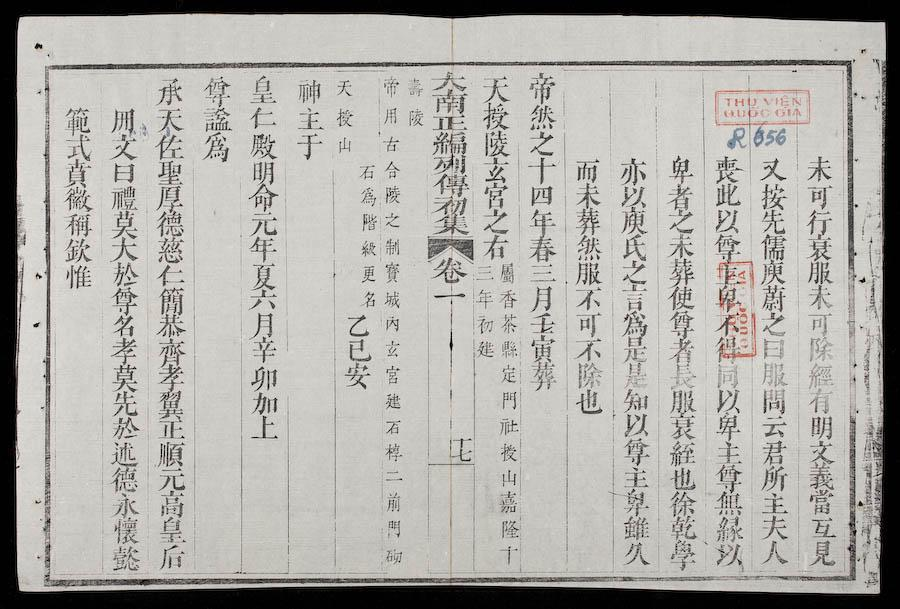c: (430, 256, 469, 285), (199, 74, 233, 105), (247, 73, 278, 106), (200, 132, 233, 163), (153, 75, 186, 106), (430, 131, 470, 156), (526, 71, 557, 103), (60, 104, 93, 134), (616, 155, 650, 184), (108, 544, 143, 572), (751, 123, 790, 148), (430, 90, 469, 115), (667, 539, 698, 570), (711, 154, 744, 183), (108, 210, 141, 239), (153, 389, 186, 418), (109, 516, 143, 544), (154, 338, 188, 366), (711, 463, 745, 491), (60, 159, 94, 187), (60, 134, 95, 161), (199, 106, 234, 133), (431, 173, 470, 197), (803, 153, 835, 182), (620, 437, 652, 466), (480, 74, 512, 103), (154, 440, 187, 468), (153, 237, 187, 264), (153, 210, 187, 237), (712, 285, 746, 312), (429, 70, 470, 92), (712, 312, 748, 337), (758, 539, 790, 567), (665, 258, 697, 286), (247, 132, 279, 160), (108, 363, 140, 391), (711, 234, 743, 262), (152, 134, 186, 160), (152, 107, 186, 133), (712, 516, 746, 542), (665, 153, 695, 182), (108, 105, 139, 133), (807, 539, 838, 567), (480, 130, 511, 158), (249, 364, 280, 392), (248, 262, 279, 290), (664, 183, 695, 211), (528, 363, 559, 391), (620, 488, 651, 516), (805, 335, 836, 363), (155, 517, 187, 544), (155, 287, 187, 314), (247, 184, 279, 211), (666, 440, 698, 467), (479, 103, 511, 130), (526, 236, 558, 263), (108, 287, 140, 314), (107, 134, 139, 161), (620, 541, 652, 568), (61, 237, 94, 263), (61, 264, 94, 290), (666, 414, 699, 440), (712, 490, 745, 516), (153, 185, 186, 211), (758, 514, 791, 540), (108, 391, 141, 417), (108, 493, 142, 518), (60, 212, 94, 237), (60, 187, 94, 212), (712, 542, 746, 567), (572, 207, 602, 235), (248, 415, 279, 442), (804, 208, 835, 235), (757, 155, 788, 182), (758, 234, 789, 261), (757, 183, 788, 210), (293, 133, 324, 160), (619, 285, 650, 312), (619, 336, 650, 363), (666, 311, 697, 338), (805, 489, 837, 515), (805, 463, 837, 489), (667, 389, 699, 415), (758, 465, 790, 491), (108, 185, 140, 211), (620, 515, 652, 541), (108, 440, 140, 466), (155, 491, 187, 517), (109, 466, 141, 492), (573, 362, 605, 388), (247, 212, 280, 237), (432, 215, 471, 236), (107, 238, 141, 262), (528, 335, 557, 363), (619, 234, 649, 261), (527, 103, 557, 130), (574, 389, 604, 416), (293, 78, 323, 105), (759, 388, 789, 415), (156, 544, 187, 570), (619, 311, 650, 337), (526, 208, 557, 234), (573, 261, 604, 287), (804, 285, 835, 311), (526, 157, 557, 183), (667, 490, 698, 516), (618, 208, 649, 234), (805, 362, 836, 388), (804, 235, 835, 261), (109, 337, 140, 363), (666, 338, 697, 364), (712, 336, 743, 362), (480, 234, 511, 260), (665, 233, 697, 258), (572, 337, 604, 362), (247, 237, 279, 262), (154, 314, 187, 338), (108, 262, 141, 286), (154, 468, 187, 492), (759, 285, 788, 312), (713, 413, 742, 440), (431, 196, 470, 216), (759, 361, 789, 387), (574, 235, 604, 261), (294, 106, 324, 132), (342, 363, 372, 389), (759, 439, 789, 465), (249, 337, 279, 363), (620, 388, 650, 414), (480, 209, 511, 234), (666, 286, 697, 311), (480, 158, 511, 183), (805, 389, 836, 414), (109, 416, 141, 440), (246, 106, 278, 130), (429, 288, 469, 307), (154, 264, 187, 287), (528, 285, 556, 312), (249, 311, 277, 338), (481, 183, 510, 209), (758, 260, 788, 285), (572, 183, 602, 208), (573, 312, 603, 337), (621, 412, 651, 437), (619, 260, 649, 285), (620, 363, 650, 388), (806, 414, 836, 439), (805, 440, 836, 464), (155, 365, 186, 389), (618, 184, 649, 208), (154, 160, 185, 184), (667, 516, 698, 540), (620, 465, 651, 489), (713, 388, 742, 413), (712, 208, 741, 233), (759, 312, 788, 337), (527, 131, 556, 156), (572, 157, 601, 182), (667, 364, 697, 388), (430, 156, 470, 174), (573, 287, 603, 311), (758, 210, 788, 234), (712, 183, 742, 207), (248, 161, 278, 185), (667, 466, 697, 490), (759, 415, 789, 439), (807, 516, 838, 539), (249, 392, 280, 415), (713, 440, 744, 463), (759, 492, 790, 515), (665, 210, 696, 233), (155, 418, 187, 440), (429, 115, 470, 132), (110, 314, 139, 338), (713, 363, 742, 387), (109, 160, 138, 184), (804, 184, 833, 208), (805, 312, 835, 335), (805, 261, 835, 284), (345, 313, 372, 338), (712, 264, 744, 285), (247, 290, 279, 311), (345, 338, 372, 362), (721, 126, 749, 149), (527, 184, 555, 207), (528, 313, 557, 335), (527, 263, 557, 284), (496, 489, 520, 515), (761, 337, 787, 360), (497, 517, 520, 540), (496, 543, 520, 565), (496, 416, 520, 438), (333, 77, 356, 99), (497, 288, 519, 311), (497, 441, 519, 464), (498, 312, 519, 336), (382, 261, 403, 285), (334, 107, 356, 129), (382, 338, 403, 361), (382, 364, 403, 387), (382, 184, 403, 207), (382, 159, 403, 182), (498, 363, 519, 386), (380, 76, 401, 99), (382, 441, 404, 462), (357, 186, 378, 208), (497, 467, 519, 488), (498, 389, 519, 411), (384, 490, 404, 513), (475, 287, 495, 310), (498, 261, 517, 285), (382, 391, 403, 412), (382, 290, 403, 311), (382, 546, 404, 566), (475, 314, 495, 336), (359, 264, 379, 285), (383, 517, 403, 538), (359, 212, 379, 233), (383, 417, 403, 438), (475, 263, 495, 284), (358, 289, 378, 310), (383, 237, 403, 258), (499, 339, 519, 360), (381, 135, 402, 155), (356, 162, 377, 182), (405, 76, 424, 98), (406, 107, 425, 129), (382, 315, 402, 335), (358, 239, 378, 259), (476, 339, 496, 359), (335, 135, 355, 155), (383, 211, 402, 232), (382, 106, 400, 128), (383, 466, 404, 484), (451, 448, 474, 462), (451, 437, 472, 449)
